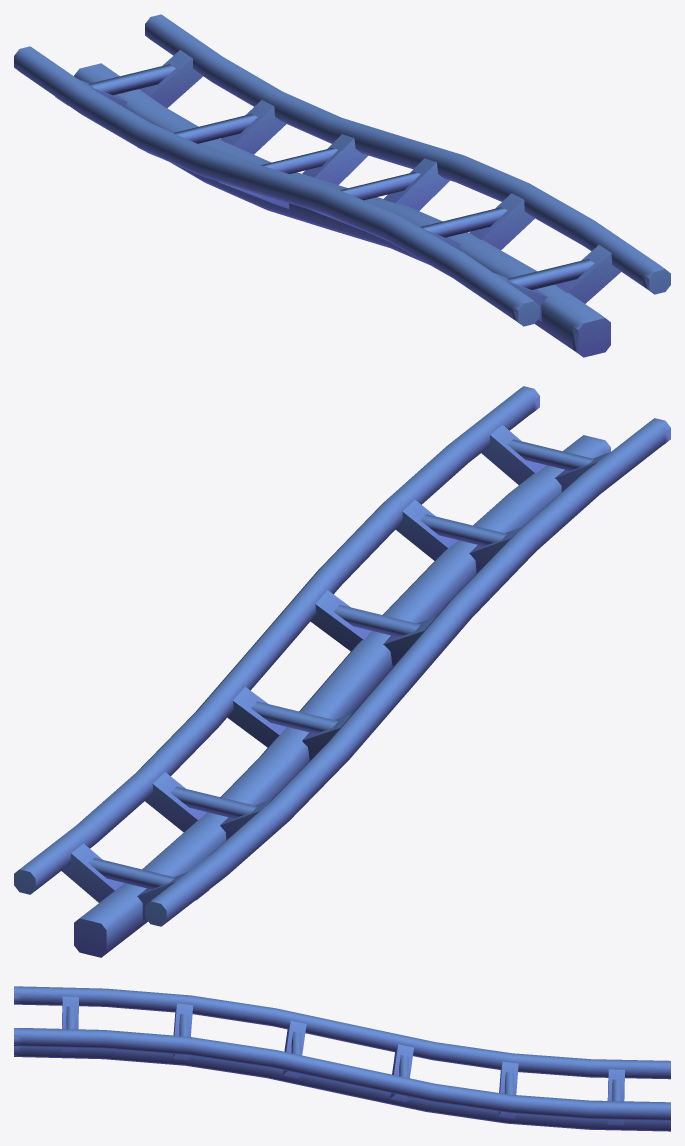
File: coaster-steel-straight-hill-complete-half.glb
3 renders of one model, top to bottom at view 1: azimuth 30°, elevation 25°; view 2: azimuth 150°, elevation 25°; view 3: azimuth 270°, elevation 25°, orthographic. The views are drawn at different scales.
Parts seen in each view (by area): view 1: coaster-steel-straight-hill-complete-half; view 2: coaster-steel-straight-hill-complete-half; view 3: coaster-steel-straight-hill-complete-half.
Part boxes in pixels (<box>): coaster-steel-straight-hill-complete-half: <box>14,14,670,357</box>; coaster-steel-straight-hill-complete-half: <box>14,386,670,957</box>; coaster-steel-straight-hill-complete-half: <box>14,986,670,1131</box>.
Bounding box in the file's own units: 2.1 × 2.4 × 12.
1 material, 1 textured.
